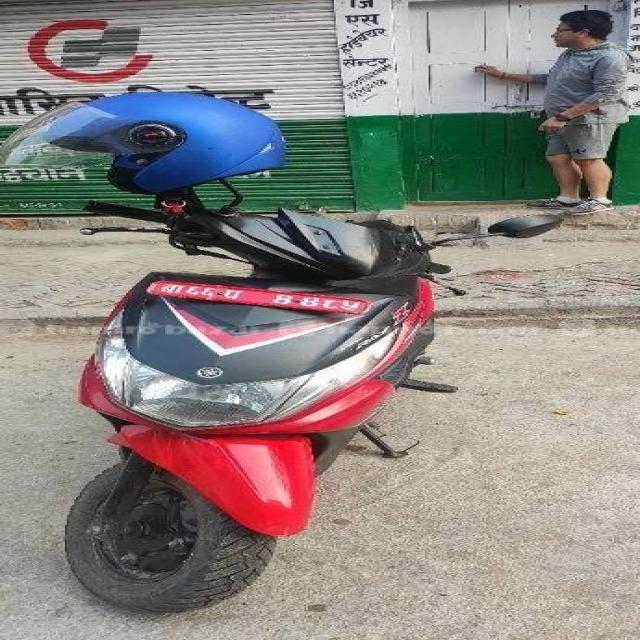License-plate: (138, 275, 378, 318)
